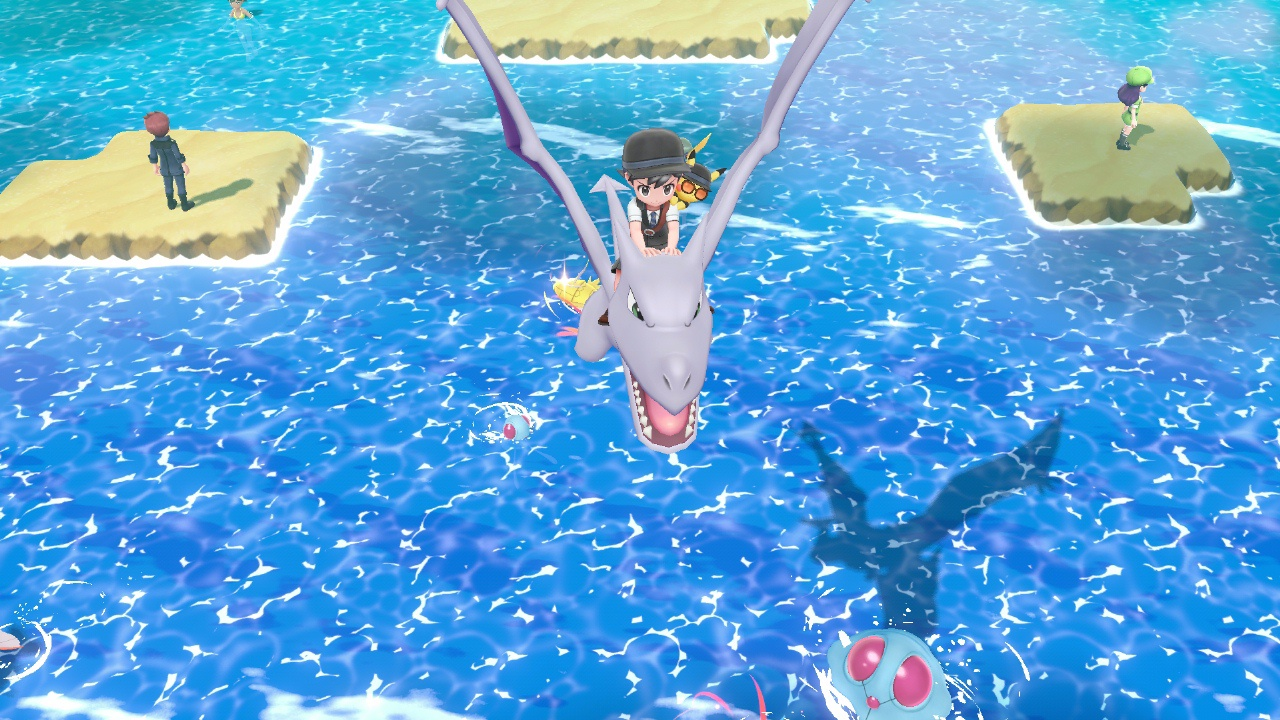Golden: (548, 272, 611, 317)
